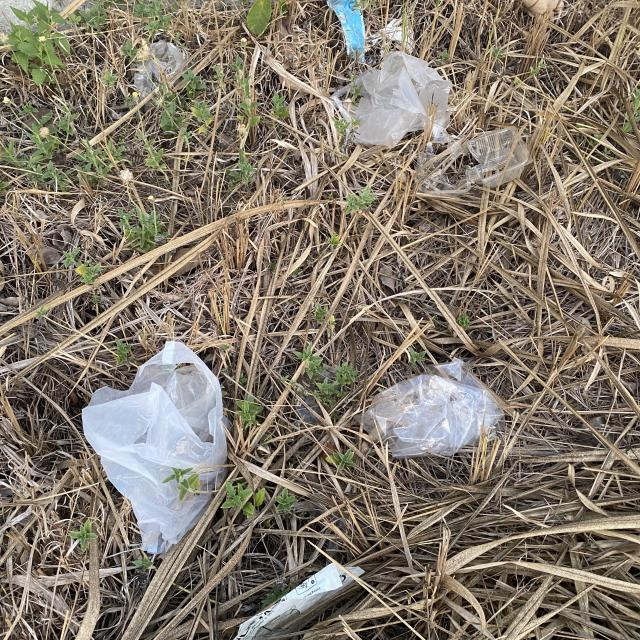Single-layer Plastic: (82, 341, 228, 554), (356, 359, 504, 458), (331, 51, 451, 146), (134, 40, 185, 96)
